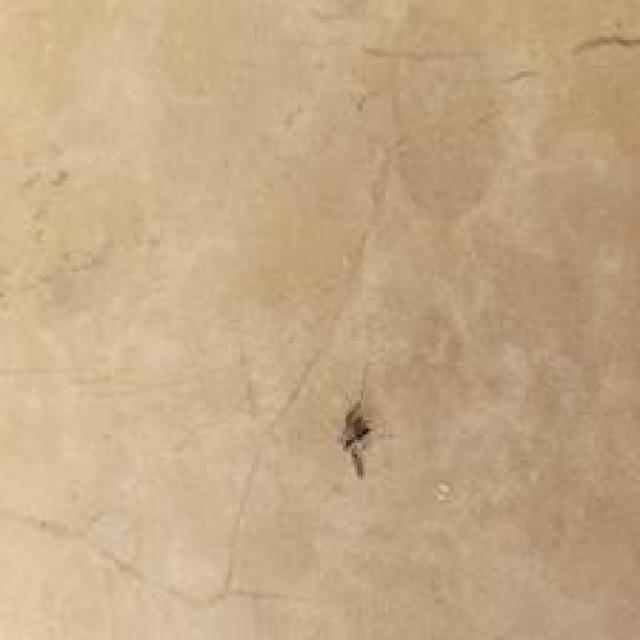Aedes albopictus: (337, 391, 374, 480)
